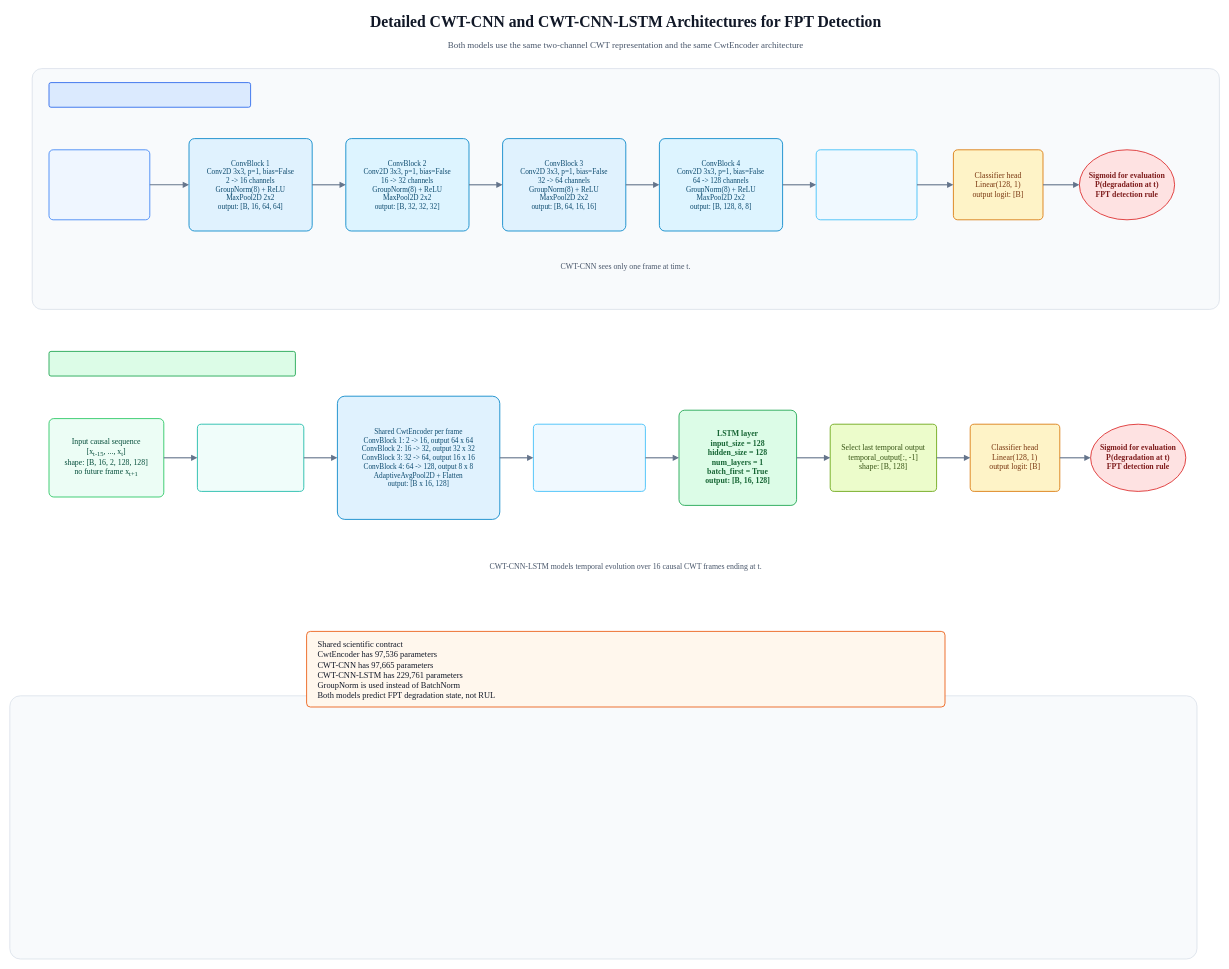
Image size: 1229x969. Some labels were removed from this diagram. Here are the shapes that lost their labels. From the top down, the centre of each, then its label:
the point at 149,94: Model 1: CWT-CNN single-frame classifier
the point at 99,184: Input CWT image x t shape: [B, 2, 128, 128] 2 channels: H + V
the point at 866,184: AdaptiveAvgPool2D output size: 1 x 1 Flatten feature: [B, 128]
the point at 172,363: Model 2: CWT-CNN-LSTM causal sequence classifier
the point at 250,458: Reshape frames [B, 16, 2, 128, 128] -> [B x 16, 2, 128, 128]
the point at 589,458: Reshape to feature sequence [B x 16, 128] -> [B, 16, 128]
